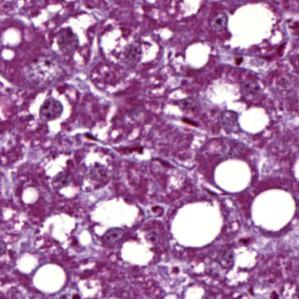steatosis: (170, 198, 223, 248), (250, 188, 295, 230), (214, 158, 257, 196), (239, 110, 270, 136)
